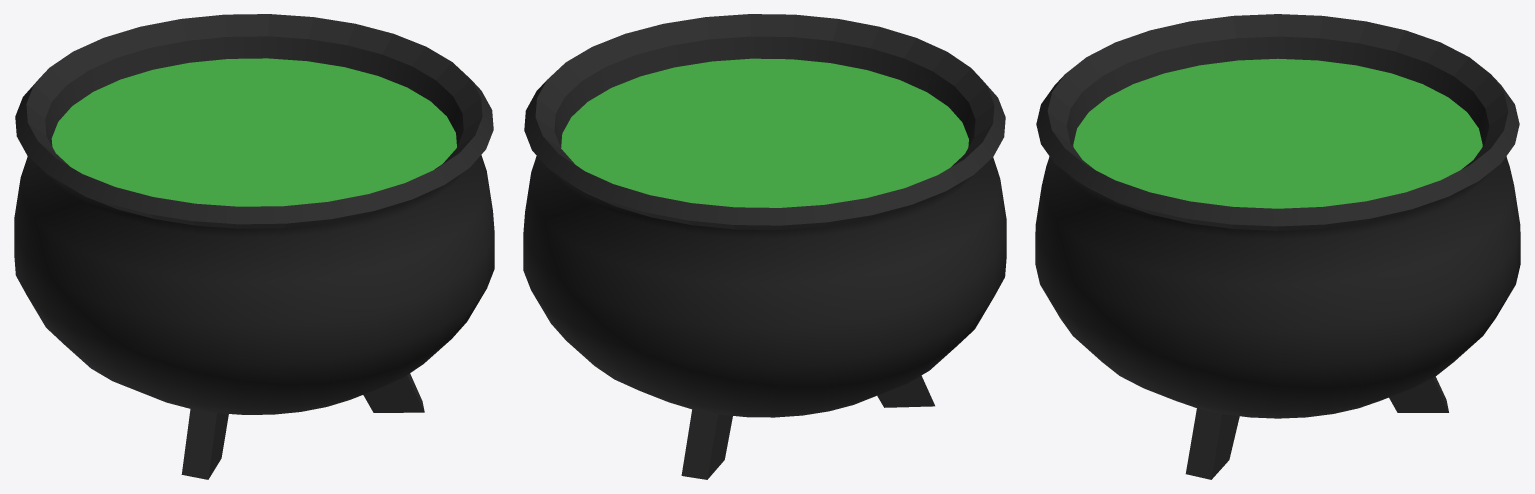
File: Chaudron.FBX
3 renders of one model, left to right at view 1: azimuth 30°, elevation 25°; view 2: azimuth 150°, elevation 25°; view 3: azimuth 270°, elevation 25°, orthographic.
Parts seen in each view (by area): view 1: Chaudron; view 2: Chaudron; view 3: Chaudron.
Boxes of the visible parts, bbox=[...] form: Chaudron: bbox=[14, 14, 494, 479]; Chaudron: bbox=[523, 14, 1006, 479]; Chaudron: bbox=[1035, 14, 1520, 479].
Bounding box in the file's own units: 2.13 × 1.47 × 2.13.
